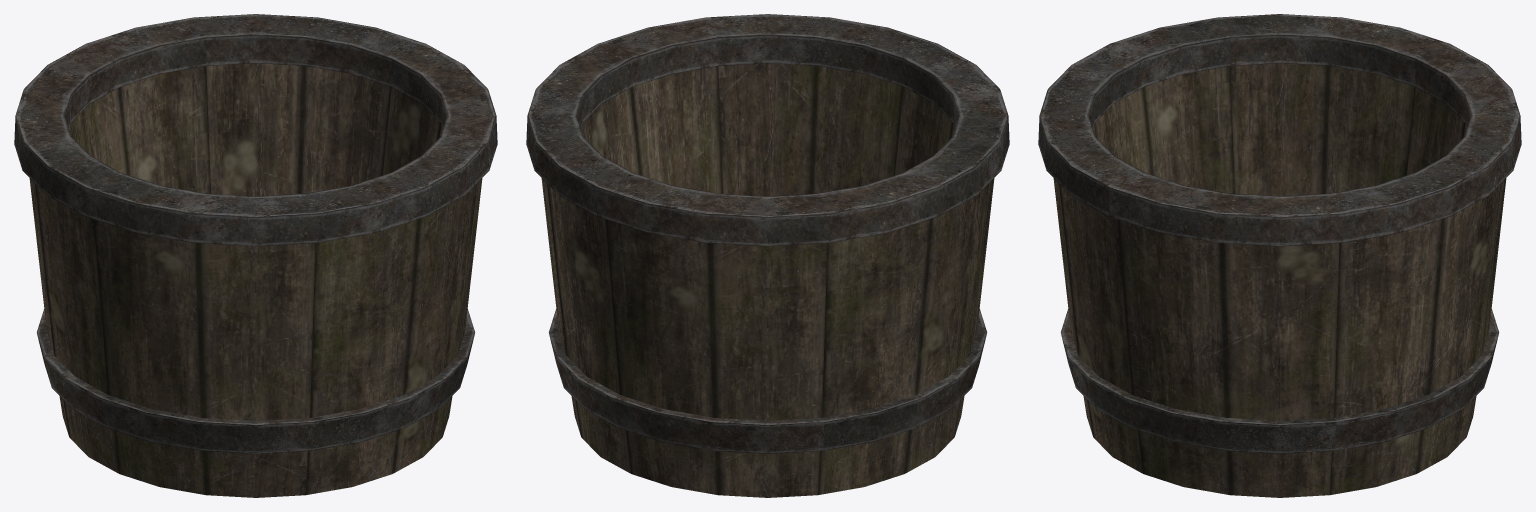
File: Bucket.fbx
The picture shows the model from 3 angles, left to right: view 1: azimuth 30°, elevation 25°; view 2: azimuth 150°, elevation 25°; view 3: azimuth 270°, elevation 25°; orthographic projection.
Parts seen in each view (by area): view 1: Bucket; view 2: Bucket; view 3: Bucket.
Boxes of the visible parts, left/top/right/bottom form: Bucket: left=14, top=14, right=497, bottom=497; Bucket: left=526, top=14, right=1009, bottom=497; Bucket: left=1038, top=14, right=1521, bottom=497.
Size of the model in its own units: 34.34 by 23.57 by 34.34.
